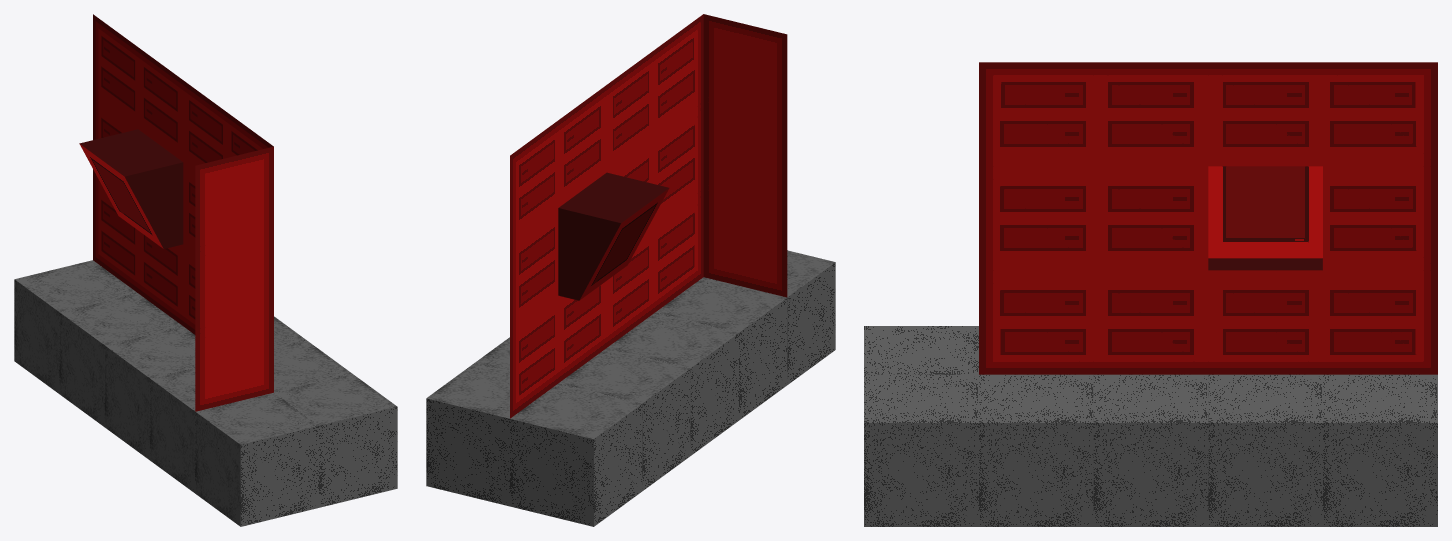
The model's file is prologue-paketomat-col.glb.
3 renders of one model, left to right at view 1: azimuth 30°, elevation 25°; view 2: azimuth 150°, elevation 25°; view 3: azimuth 270°, elevation 25°, orthographic. The views are drawn at different scales.
Parts seen in each view (by area): view 1: paketomat-col; view 2: paketomat-col; view 3: paketomat-col.
Part boxes in pixels (box(x1,y1,x2,y2)): paketomat-col: box(14, 14, 397, 526); paketomat-col: box(426, 14, 835, 526); paketomat-col: box(864, 62, 1437, 526).
Size of the model in its own units: 4 by 8 by 10.
2 materials, 2 textured.
